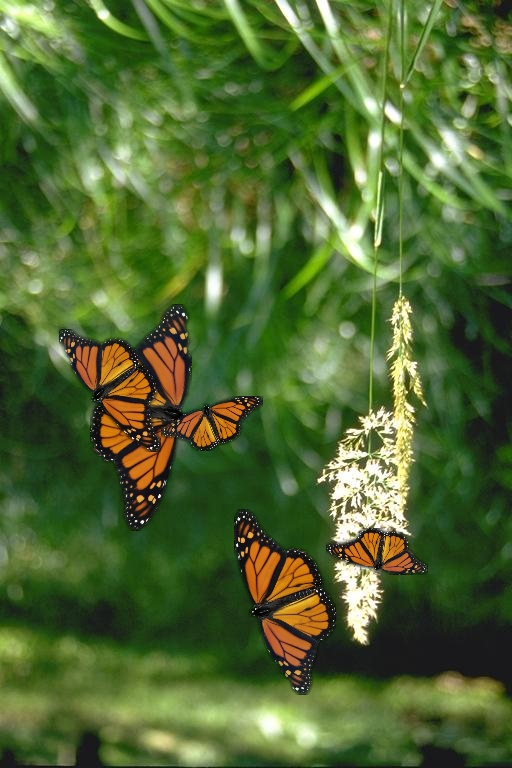danaus_plexippus: (90, 304, 192, 531), (234, 509, 336, 695), (59, 329, 161, 452), (161, 396, 263, 451), (326, 528, 428, 575)
